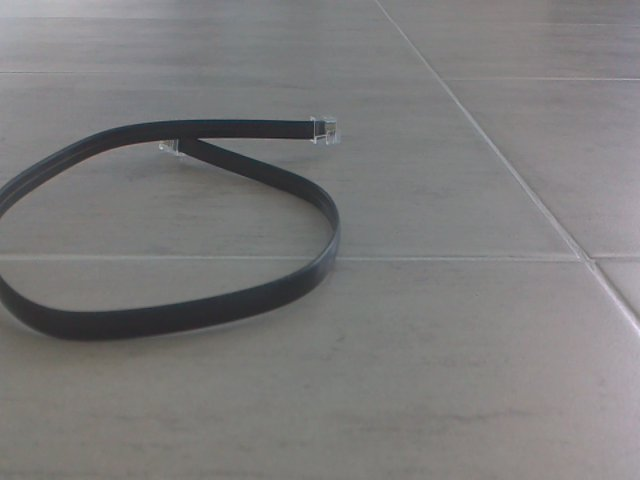Kabel: (2, 108, 350, 345)
